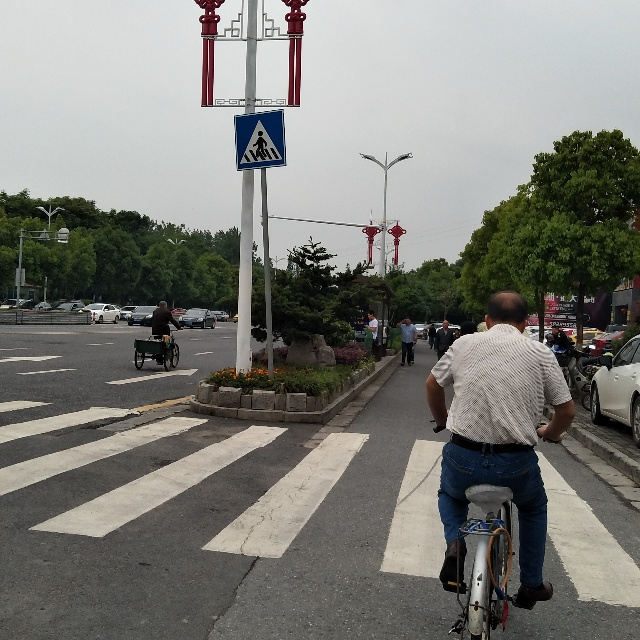crosswalk: (237, 116, 291, 171)
